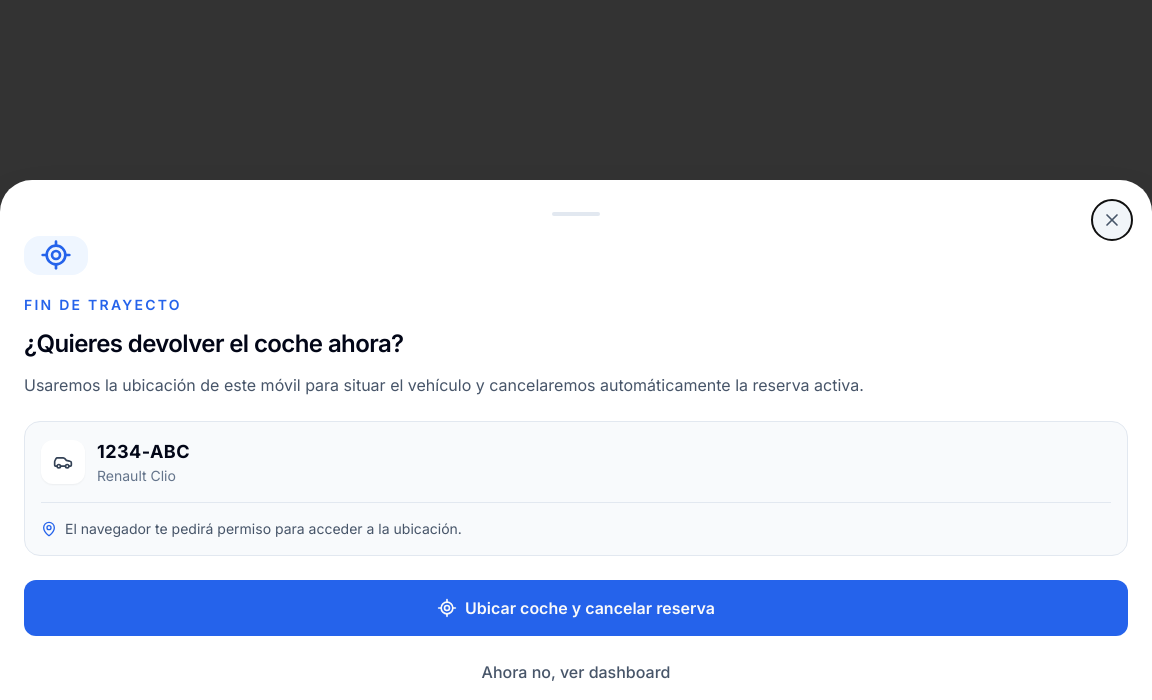
Test: MobileActiveReservation › no cancela la reserva cuando falla la ubicación
The width and height of the screenshot is (1152, 700).
Click the button "Ubicar coche y cancelar reserva" at {"x": 576, "y": 608}, box [24,580,1128,636]
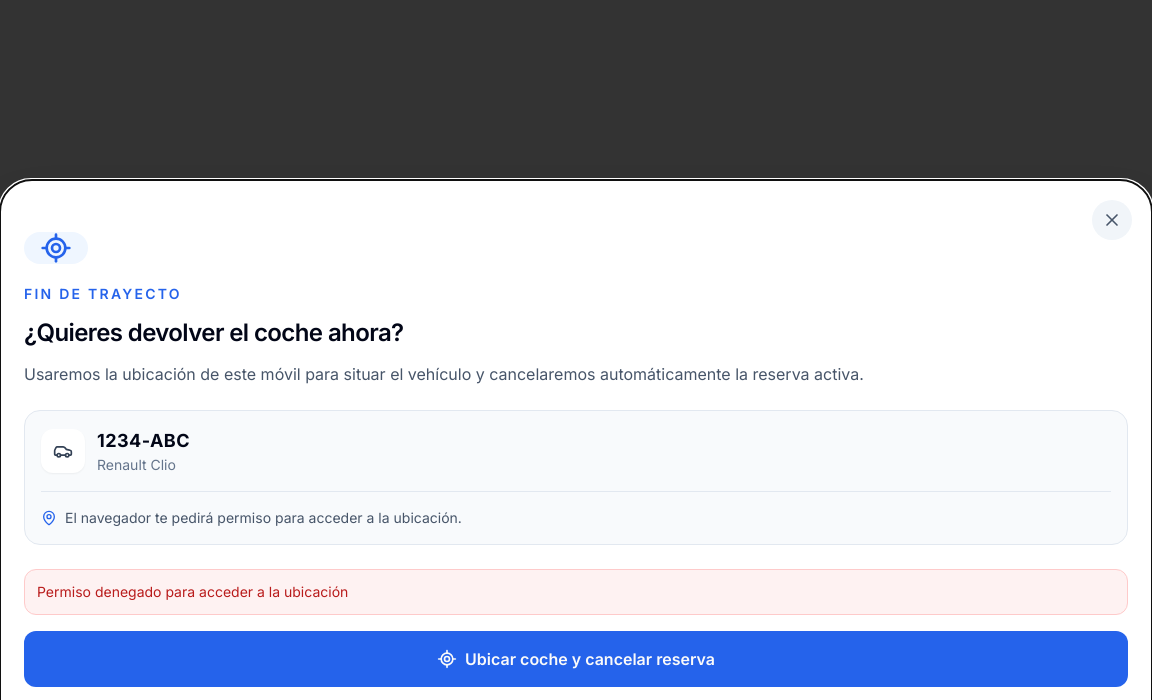
Result: the message shows "Permiso denegado" at [37,583,348,600]
